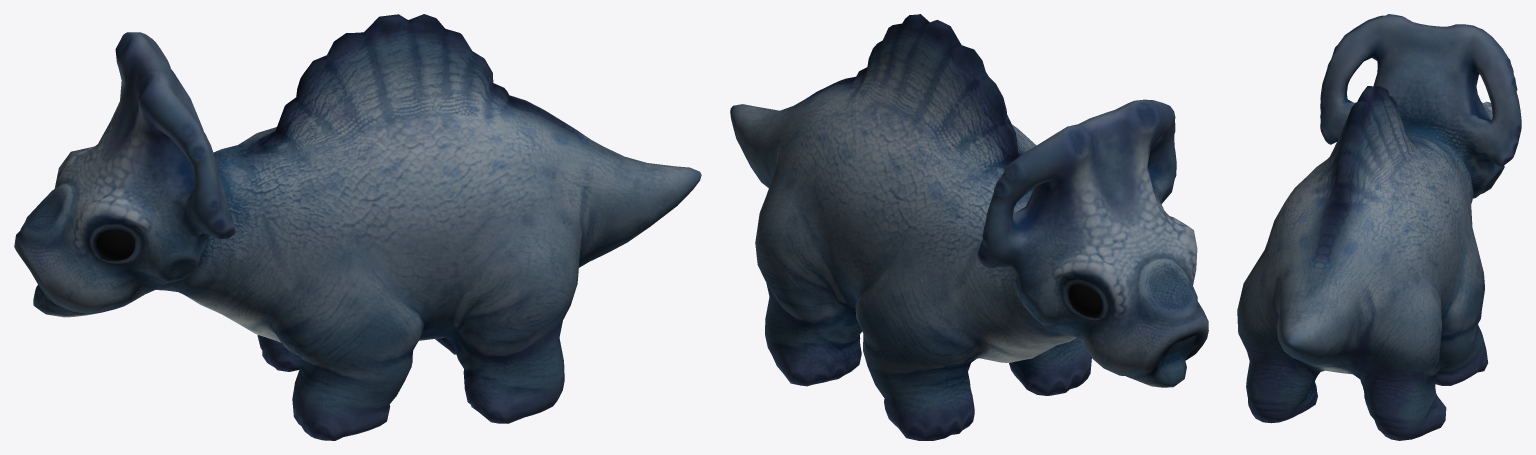
File: dinosauriobebé.fbx
3 renders of one model, left to right at view 1: azimuth 30°, elevation 25°; view 2: azimuth 150°, elevation 25°; view 3: azimuth 270°, elevation 25°, orthographic. The views are drawn at different scales.
Visible parts, largest first — view 1: mesh_0.002, mesh_0.003; view 2: mesh_0.002, mesh_0.003; view 3: mesh_0.002.
Part boxes in pixels (x1,y1,x2,y2): mesh_0.002: (14,14,701,440); mesh_0.003: (96,229,134,260); mesh_0.002: (730,14,1208,440); mesh_0.003: (1068,284,1102,316); mesh_0.002: (1237,14,1521,440).
Size of the model in its own units: 198 by 121 by 104.
2 materials, 1 textured.
